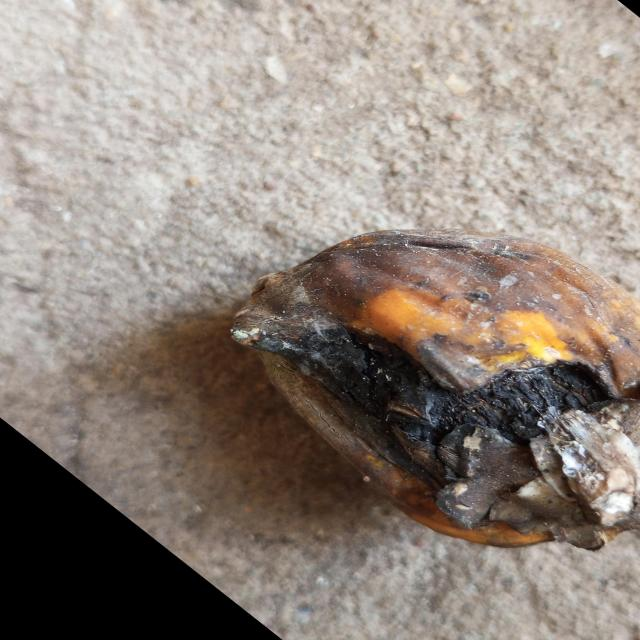damaged: (232, 231, 640, 549)
